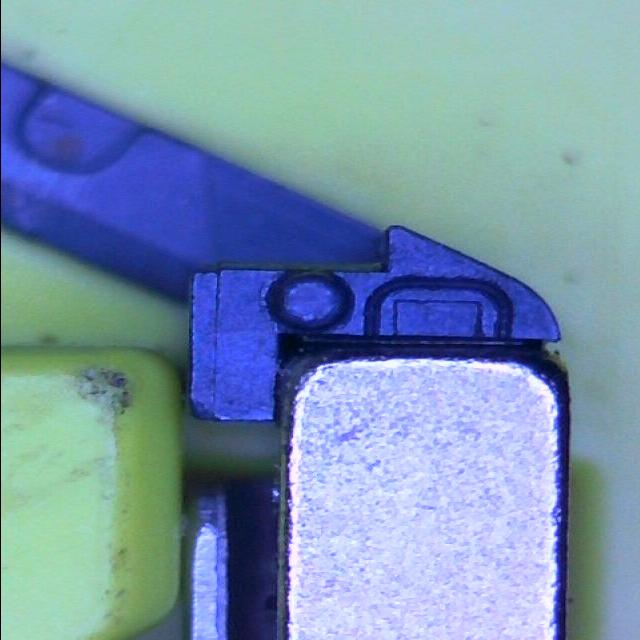lacking: (361, 276, 514, 342)
